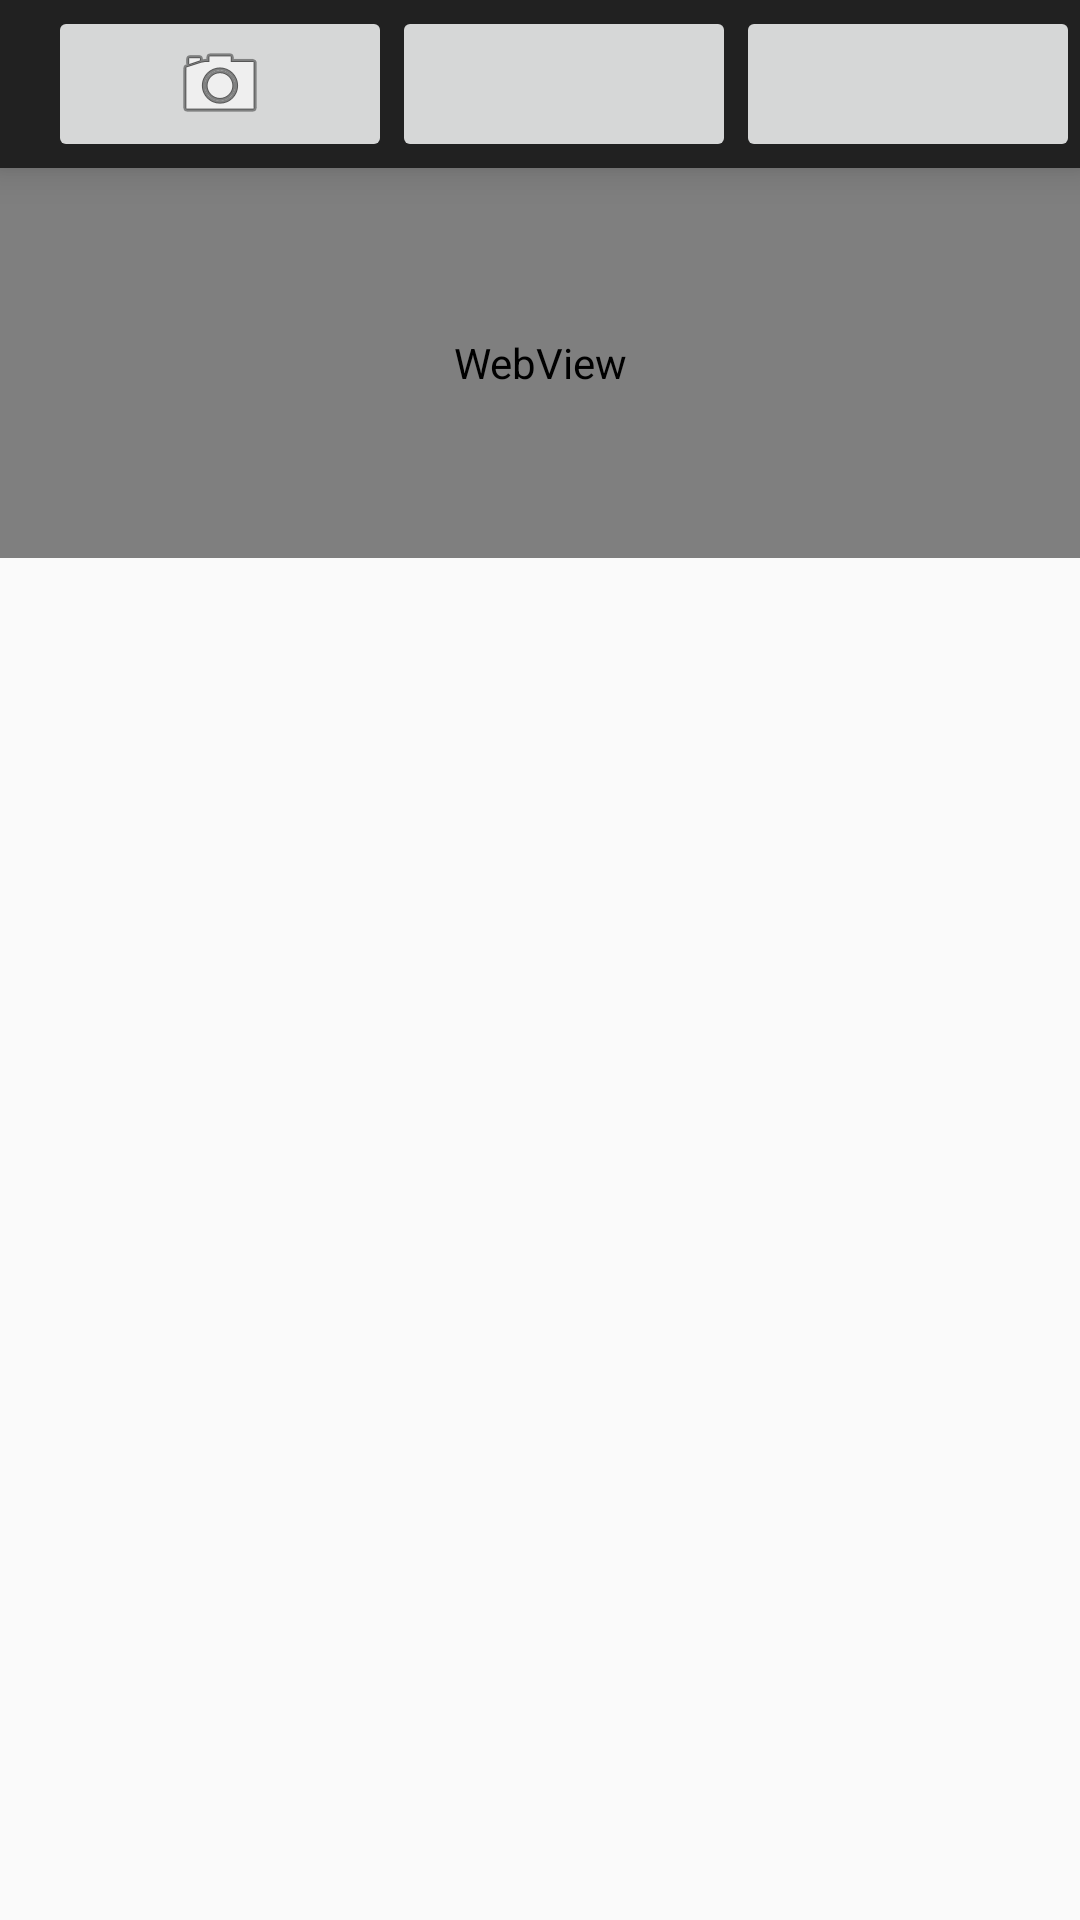

Point at icon controls on the screen. Image size 1080 x 1920, points as point (x, y).
camera: point (220, 84)
